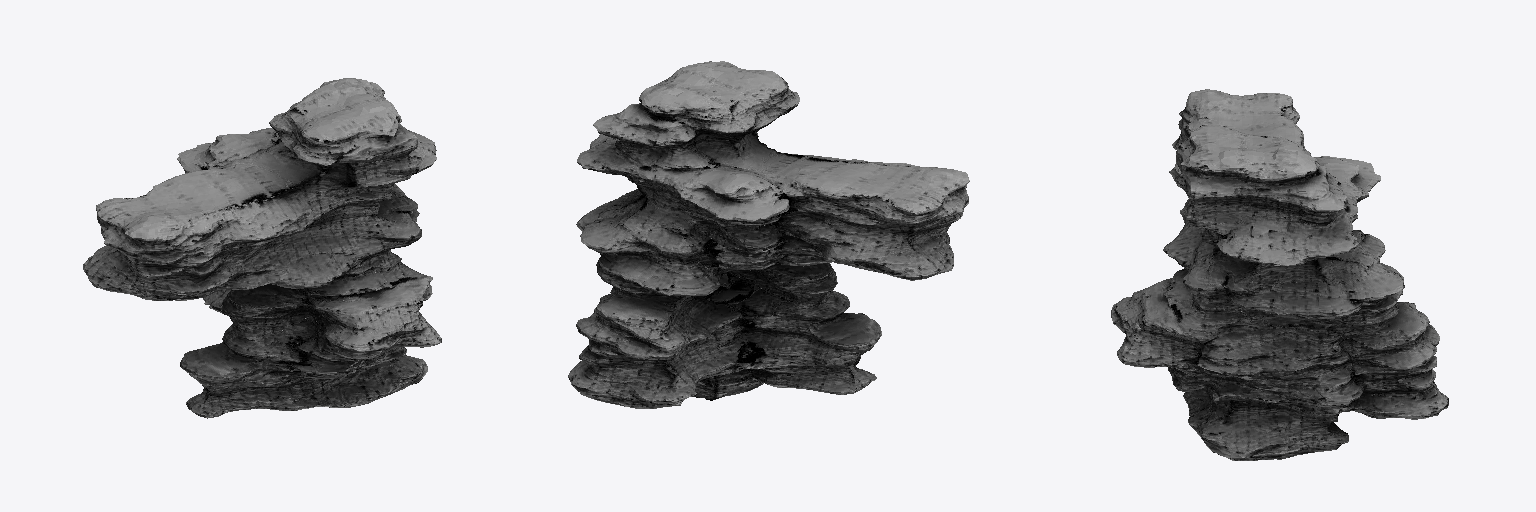
3 views of the same model, side by side, from view 1: azimuth 30°, elevation 25°; view 2: azimuth 150°, elevation 25°; view 3: azimuth 270°, elevation 25° (orthographic).
Visible parts, largest first — view 1: pn_bmk_rock_low_poly.002_Cube.015; view 2: pn_bmk_rock_low_poly.002_Cube.015; view 3: pn_bmk_rock_low_poly.002_Cube.015.
Part boxes in pixels (x1,y1,x2,y2): pn_bmk_rock_low_poly.002_Cube.015: (83, 78, 441, 418); pn_bmk_rock_low_poly.002_Cube.015: (568, 61, 969, 408); pn_bmk_rock_low_poly.002_Cube.015: (1111, 89, 1448, 460).
Size of the model in its own units: 0.6314 by 0.5162 by 0.5353.
1 materials, 1 textured.